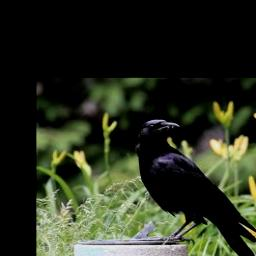Crow: (135, 118, 256, 256)
